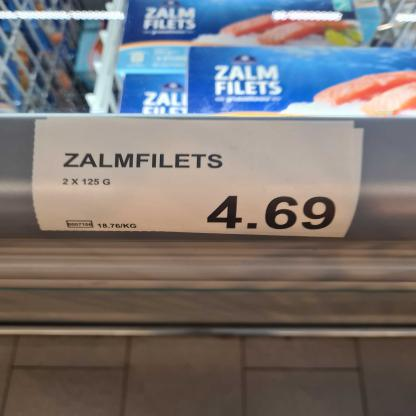prtg: (31, 120, 363, 240)
